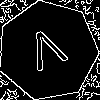V: (23, 25, 72, 81)
